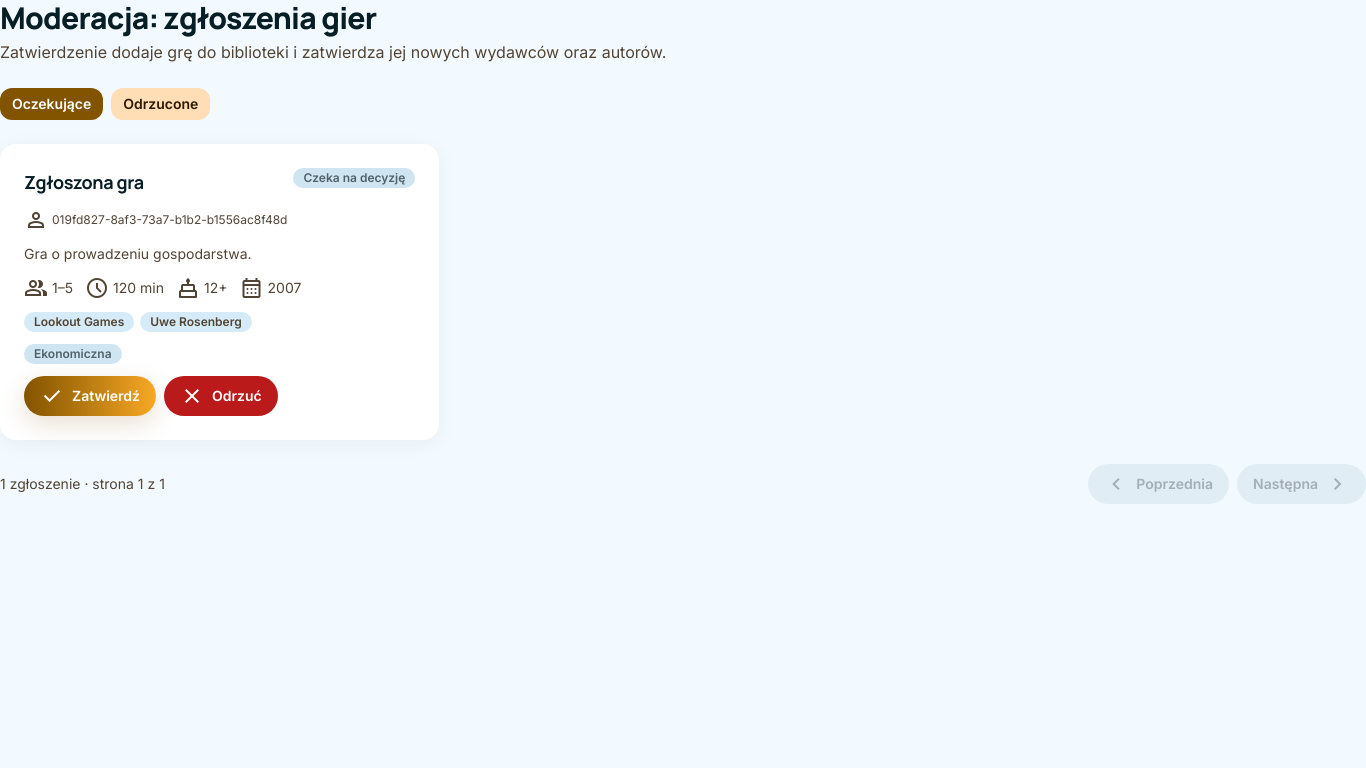
Scenario: GameModerationPage › odrzucenie bez powodu nie leci do backendu
The image size is (1366, 768).
What coordinates should you click on to do the following:
click the button "Odrzuć"
I would click on:
 (221, 396)
Its box is [164, 376, 278, 416].
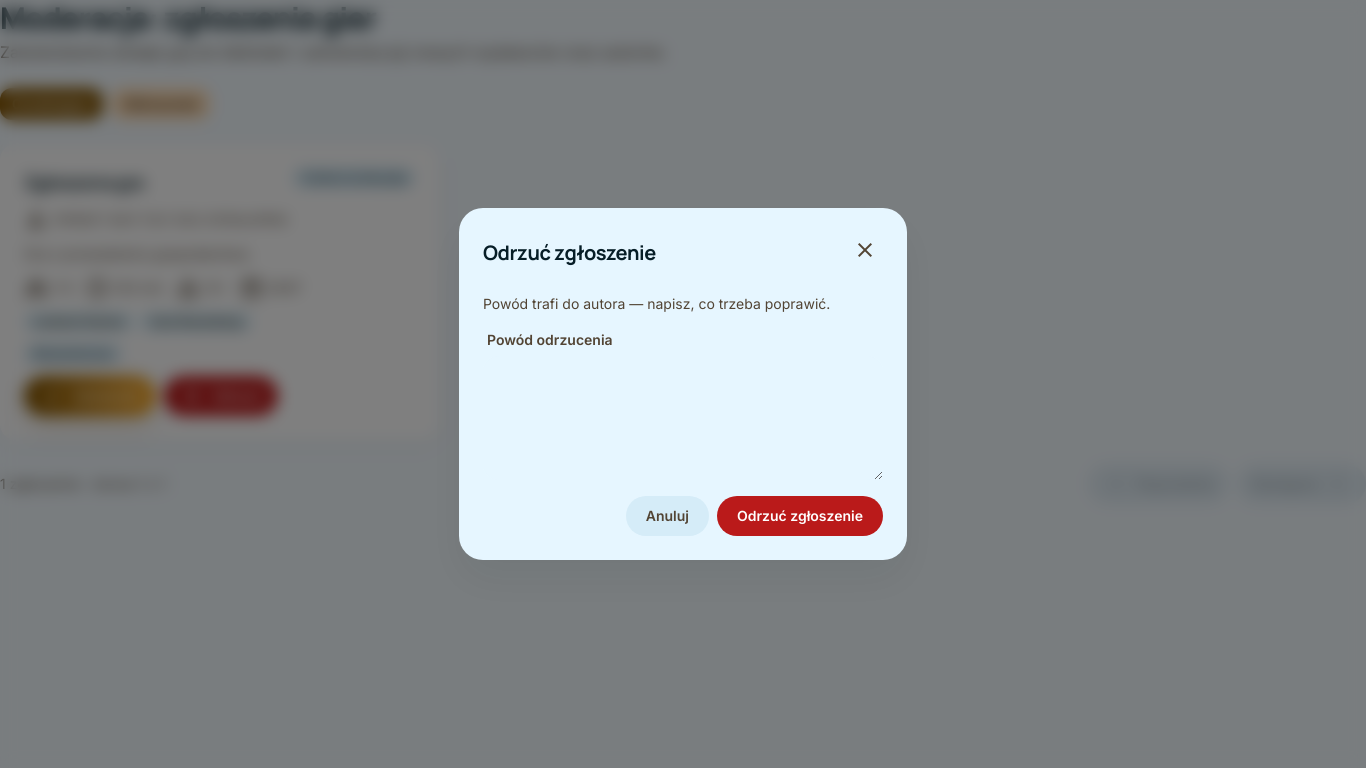
What coordinates should you click on to do the following:
click the button "Odrzuć zgłoszenie"
I would click on:
 (800, 516)
Its box is [717, 496, 883, 536].
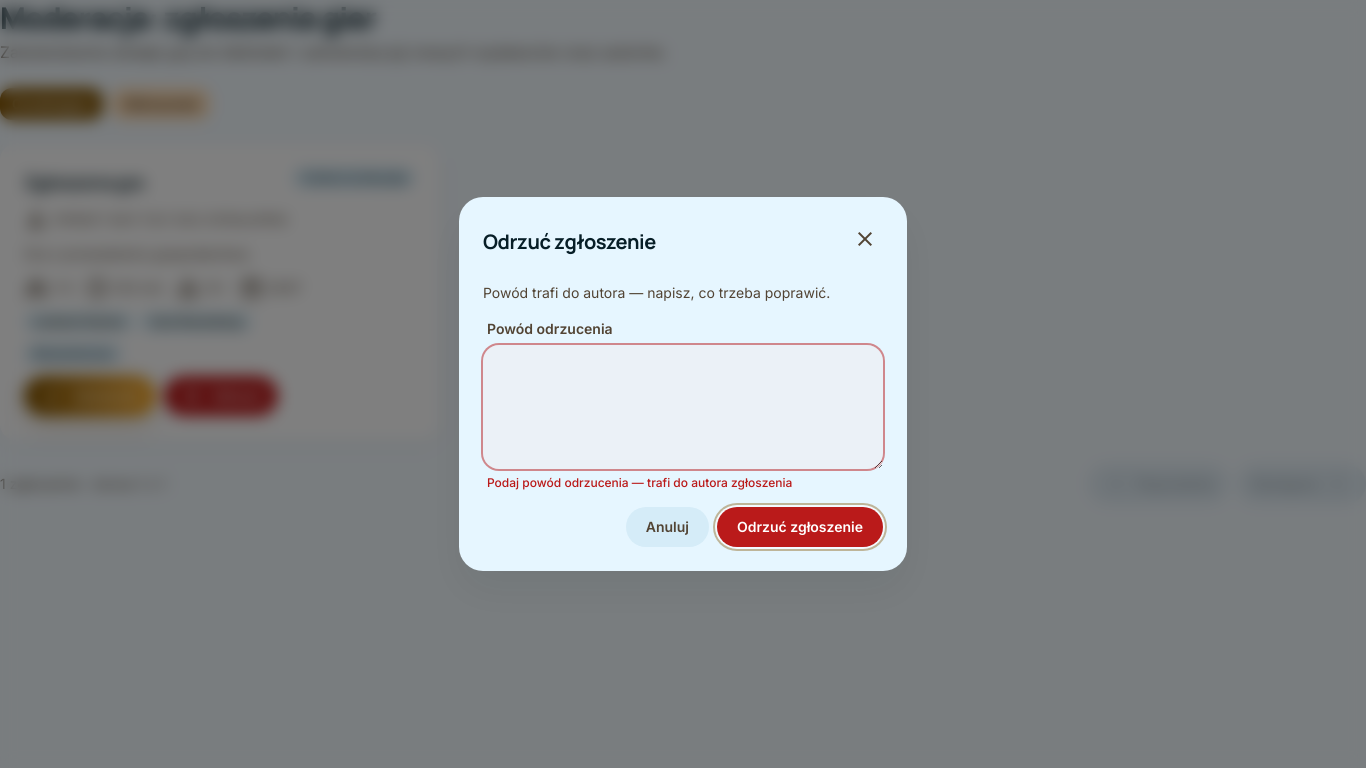
Now the text "Podaj powód odrzucenia — trafi do autora zgłoszenia" is shown, box [487, 475, 792, 490]
